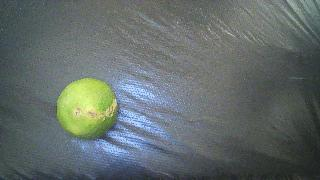DESECHO: (57, 78, 118, 139)
